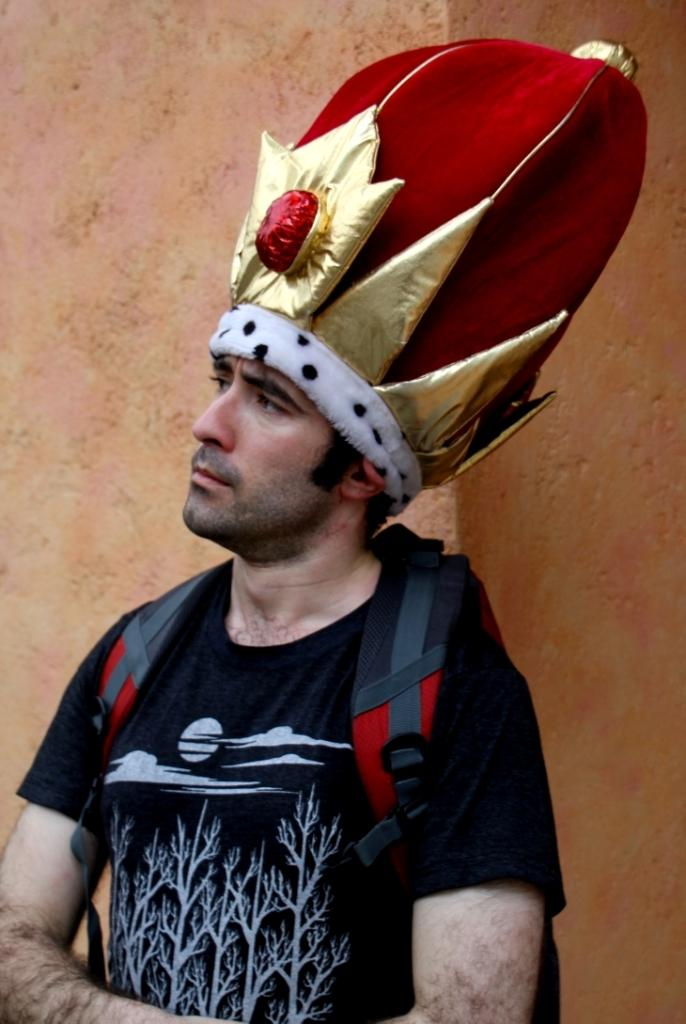Hat: (207, 40, 648, 514)
